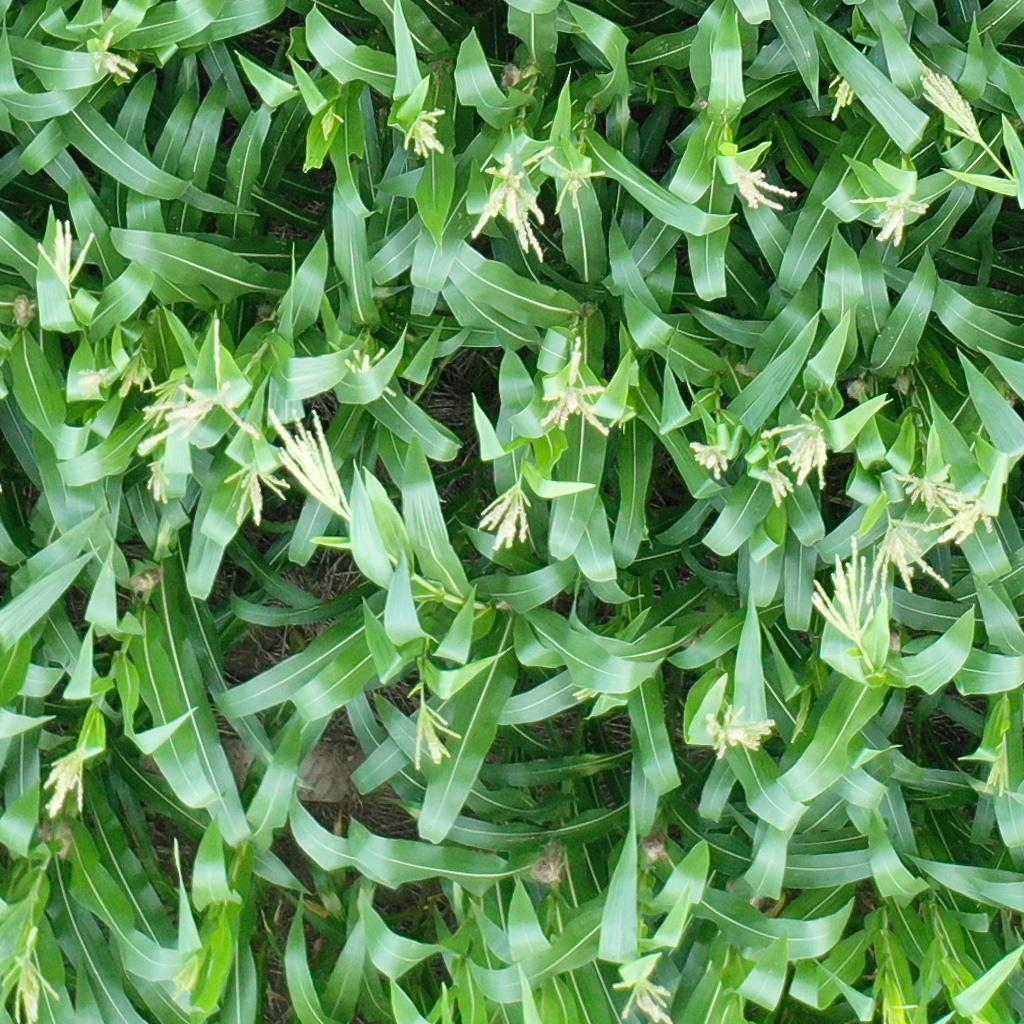Tassel: (138, 314, 267, 456), (468, 146, 560, 266), (267, 406, 353, 525), (532, 335, 625, 445), (807, 535, 881, 643), (865, 517, 952, 602), (1, 926, 62, 1023), (221, 460, 295, 534), (917, 67, 984, 148), (762, 413, 831, 491), (404, 686, 462, 774), (34, 215, 96, 293), (725, 155, 799, 218), (700, 701, 778, 760), (848, 187, 929, 243), (75, 352, 156, 406), (478, 474, 529, 557), (335, 341, 399, 404), (608, 968, 680, 1024), (38, 750, 98, 816), (545, 156, 606, 214), (886, 463, 958, 512), (922, 503, 994, 546), (88, 30, 140, 87), (397, 106, 449, 162), (757, 453, 795, 504), (826, 67, 860, 122), (689, 439, 734, 478), (141, 454, 175, 504), (168, 952, 203, 1000), (572, 682, 615, 711), (315, 106, 344, 145), (983, 757, 1005, 804)
